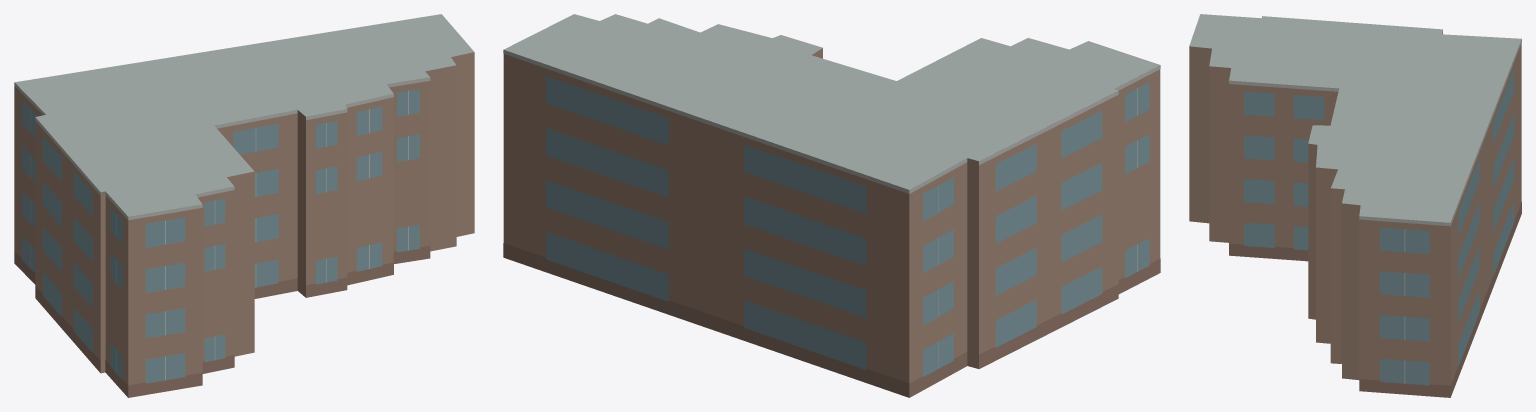
Rendered from survey-upis-32688160.glb.
3 renders of one model, left to right at view 1: azimuth 30°, elevation 25°; view 2: azimuth 150°, elevation 25°; view 3: azimuth 270°, elevation 25°, orthographic. The views are drawn at different scales.
Parts seen in each view (by area): view 1: survey-upis-32688160.tmp; view 2: survey-upis-32688160.tmp; view 3: survey-upis-32688160.tmp.
Boxes of the visible parts, <box> form: survey-upis-32688160.tmp: <box>14,14,474,397</box>; survey-upis-32688160.tmp: <box>503,14,1160,397</box>; survey-upis-32688160.tmp: <box>1189,14,1521,397</box>.
Bounding box in the file's own units: 31.99 × 12.5 × 21.54.
